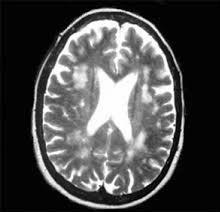Normal_Brain: (2, 2, 220, 212)
